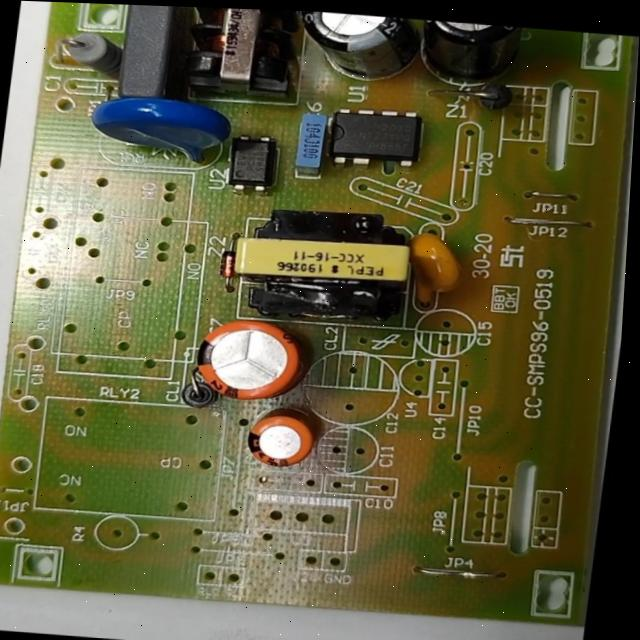Cap1: (185, 314, 312, 410)
Cap2: (241, 409, 319, 470)
Cap3: (292, 11, 421, 88)
Cap4: (412, 19, 529, 84)
MOSFET: (322, 101, 429, 177)
Mov: (81, 89, 233, 168)
Resistor: (55, 22, 129, 83)
Transformer: (226, 197, 422, 332), (172, 7, 304, 103)
